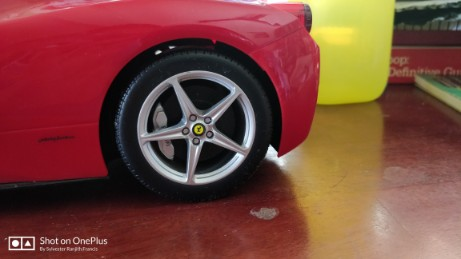aligned_wheel: (108, 45, 277, 204)
